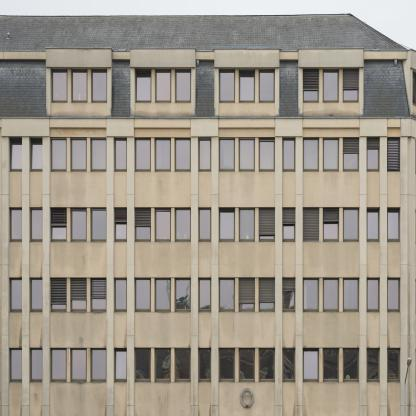Blind: (303, 207, 319, 242), (50, 278, 67, 305), (387, 137, 400, 172), (259, 207, 275, 235), (259, 277, 275, 304), (239, 278, 255, 305), (70, 277, 87, 301), (90, 277, 106, 299), (343, 69, 359, 91), (303, 69, 319, 91), (50, 208, 67, 227), (135, 207, 151, 227), (343, 137, 360, 154), (323, 207, 340, 223), (283, 207, 296, 224), (114, 207, 127, 222), (283, 277, 296, 292), (367, 137, 380, 150)
Building Outline: (0, 13, 416, 416)
Facade: (0, 13, 416, 416)
Floor: (0, 340, 416, 409), (0, 128, 416, 194), (0, 201, 416, 265), (0, 271, 416, 334)
Floor Slab: (0, 122, 416, 129), (0, 409, 416, 416), (0, 265, 416, 272), (0, 194, 416, 201), (0, 334, 416, 340)
Roof: (0, 13, 413, 117)
Top Floor: (0, 51, 416, 122)
Window: (71, 68, 88, 103), (218, 68, 235, 103), (258, 68, 275, 103), (51, 68, 68, 103), (50, 137, 67, 172), (70, 137, 87, 172), (50, 277, 67, 312), (70, 277, 87, 312), (323, 277, 340, 312), (343, 277, 360, 312), (323, 207, 340, 242), (343, 207, 360, 242), (218, 277, 235, 312), (218, 207, 235, 242), (323, 137, 340, 171), (343, 137, 360, 171), (50, 348, 67, 382), (70, 348, 87, 382), (50, 208, 67, 242), (70, 208, 87, 242), (154, 138, 171, 172), (323, 348, 340, 382), (343, 348, 360, 382), (218, 137, 235, 171), (218, 348, 235, 382), (343, 68, 359, 103), (90, 348, 106, 383), (91, 68, 107, 103), (239, 68, 255, 103), (303, 68, 319, 103), (323, 68, 339, 103), (90, 137, 106, 172), (90, 208, 106, 243), (90, 277, 106, 312), (135, 68, 151, 103), (155, 68, 171, 103), (175, 68, 191, 103), (135, 207, 151, 242), (155, 207, 171, 242), (175, 207, 191, 242), (135, 277, 151, 312), (155, 277, 171, 312), (175, 277, 191, 312), (303, 277, 319, 312), (303, 207, 319, 242), (239, 277, 255, 312), (259, 277, 275, 312), (239, 207, 255, 242), (259, 207, 275, 242), (303, 137, 319, 171), (135, 138, 151, 172), (175, 138, 191, 172), (135, 348, 151, 382), (155, 348, 171, 382), (175, 348, 191, 382), (303, 348, 319, 382), (239, 137, 255, 171), (259, 137, 275, 171), (239, 348, 255, 382), (259, 348, 275, 382), (29, 347, 43, 382), (29, 207, 43, 242), (29, 277, 43, 312), (29, 137, 43, 171), (9, 347, 22, 382), (9, 207, 22, 242), (9, 277, 22, 312), (387, 137, 400, 172), (114, 347, 127, 382), (114, 207, 127, 242), (114, 277, 127, 312), (198, 347, 211, 382), (198, 137, 211, 172), (198, 207, 211, 242), (198, 277, 211, 312), (283, 137, 296, 172), (367, 137, 380, 172), (9, 137, 22, 171), (388, 347, 401, 381), (388, 207, 401, 241), (388, 277, 401, 311), (114, 138, 127, 172), (283, 347, 296, 381), (283, 207, 296, 241), (283, 277, 296, 311), (367, 347, 380, 381), (367, 207, 380, 241), (367, 277, 380, 311)
